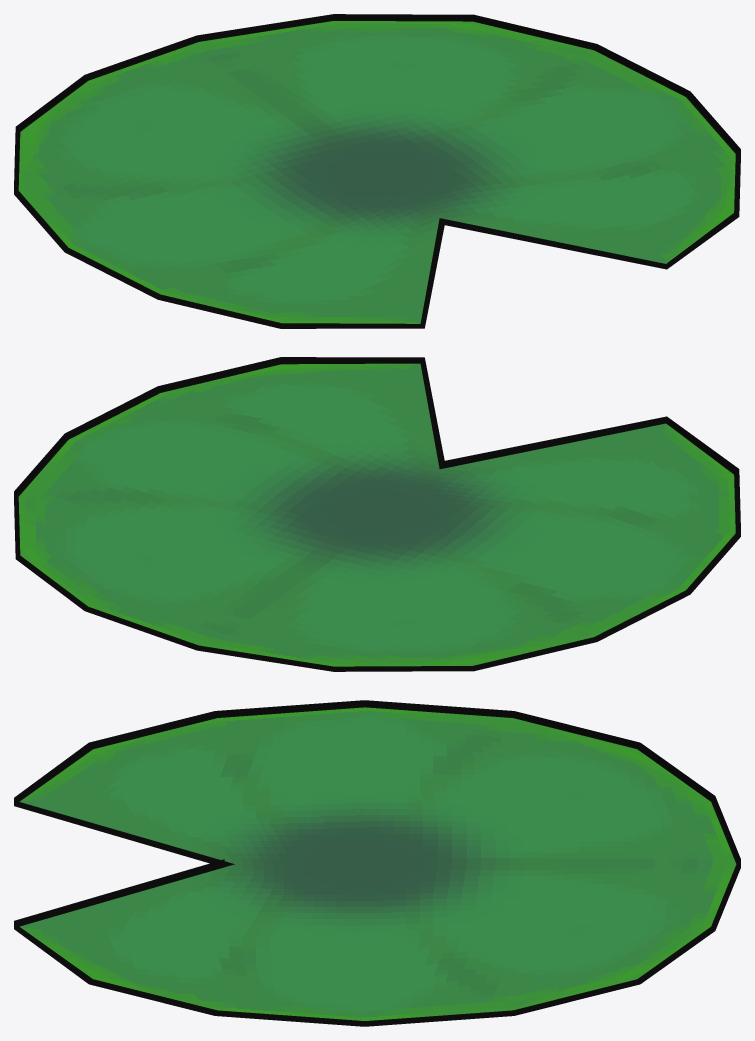
Rendered from LILYPAD.glb.
3 renders of one model, top to bottom at view 1: azimuth 30°, elevation 25°; view 2: azimuth 150°, elevation 25°; view 3: azimuth 270°, elevation 25°, orthographic. The views are drawn at different scales.
Parts seen in each view (by area): view 1: Plane, Plane.001; view 2: Plane, Plane.001; view 3: Plane, Plane.001.
Part boxes in pixels (box(x1,y1,x2,y2)): Plane: box(18, 21, 735, 323); Plane.001: box(14, 14, 740, 328); Plane: box(18, 363, 735, 666); Plane.001: box(14, 357, 740, 671); Plane: box(19, 707, 736, 1020); Plane.001: box(14, 700, 740, 1026).
Size of the model in its own units: 4.09 by 0.0515 by 3.95.
1 material, 1 textured.
